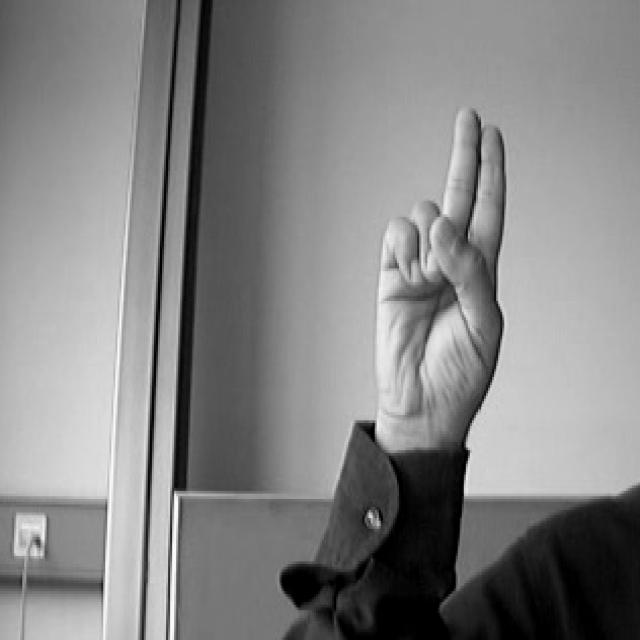U: (315, 88, 536, 463)
